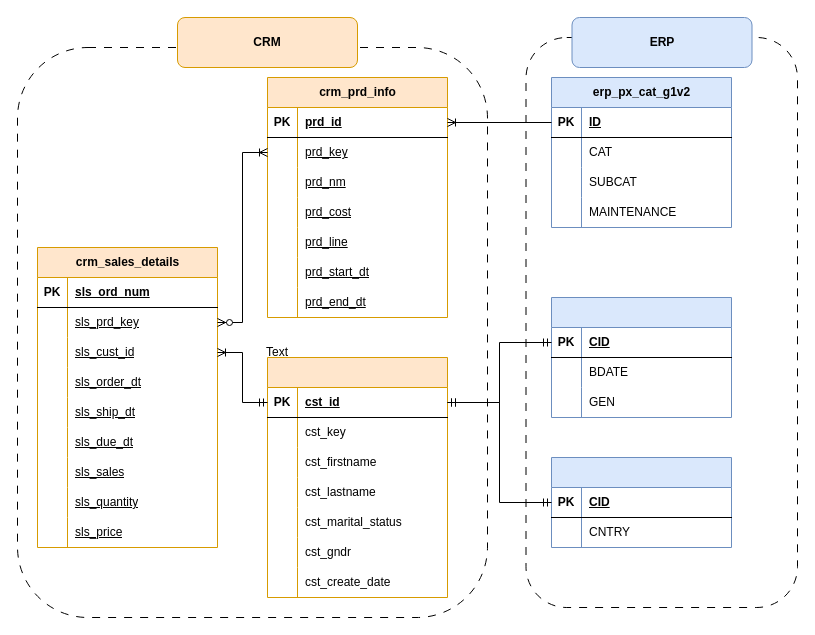
Some shapes in this 815 by 635 pixel diagram are drawn without their labels. Here are the shapes that lost their labels. From the top down, the box of each, then its label:
(550, 296, 732, 418): erp_ cust_az12
(266, 356, 448, 598): crm_cust_info
(550, 456, 732, 548): erp_ loc_a101
